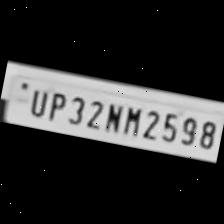2: (82, 95, 106, 130), (139, 104, 162, 140)
3: (62, 90, 88, 126)
5: (156, 108, 182, 144)
8: (194, 116, 220, 151)
9: (176, 111, 200, 147)
M: (120, 102, 144, 138)
N: (100, 99, 124, 134)
P: (44, 88, 69, 122)
U: (25, 84, 51, 118)
